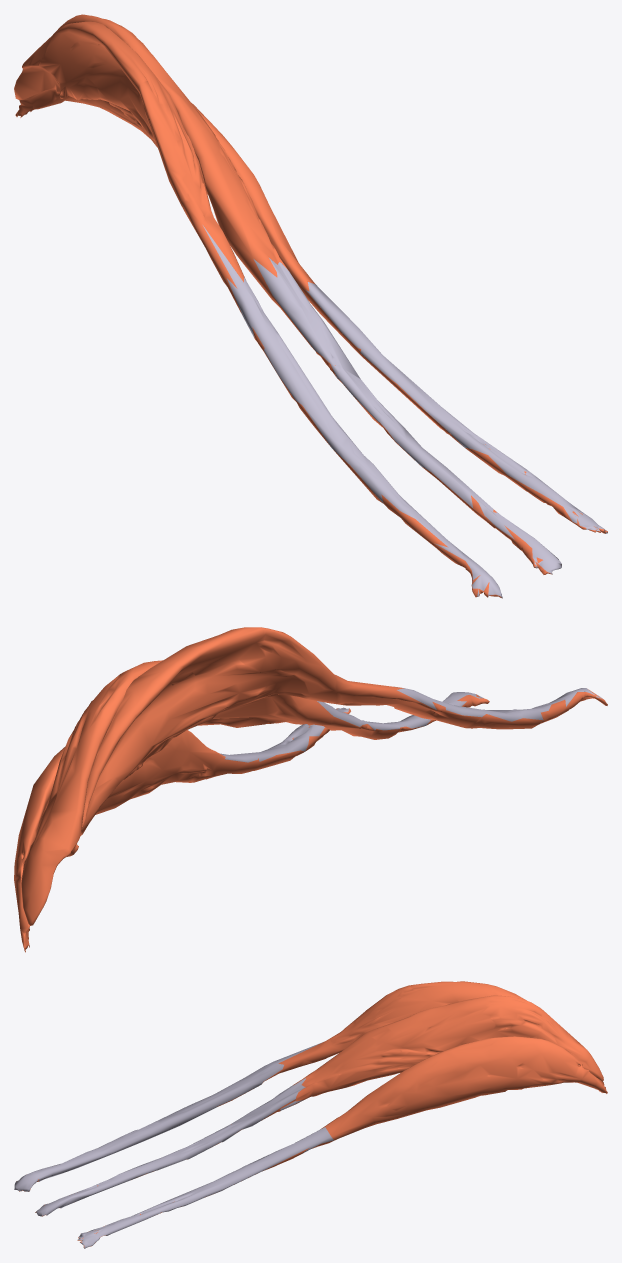
Rendered from Extensor_digitorum_brevis.l_Generated_Mesh_From_X3D.973.glb.
3 views of the same model, one above another, from view 1: azimuth 30°, elevation 25°; view 2: azimuth 150°, elevation 25°; view 3: azimuth 270°, elevation 25° (orthographic). The views are drawn at different scales.
Parts seen in each view (by area): view 1: Extensor_digitorum_brevis.l_Generated_Mesh_From_X3D.973; view 2: Extensor_digitorum_brevis.l_Generated_Mesh_From_X3D.973; view 3: Extensor_digitorum_brevis.l_Generated_Mesh_From_X3D.973.
Part boxes in pixels (<box>): Extensor_digitorum_brevis.l_Generated_Mesh_From_X3D.973: <box>14,14,607,598</box>; Extensor_digitorum_brevis.l_Generated_Mesh_From_X3D.973: <box>14,627,607,952</box>; Extensor_digitorum_brevis.l_Generated_Mesh_From_X3D.973: <box>14,981,607,1248</box>.
Size of the model in its own units: 0.0428 by 0.0587 by 0.1542.
